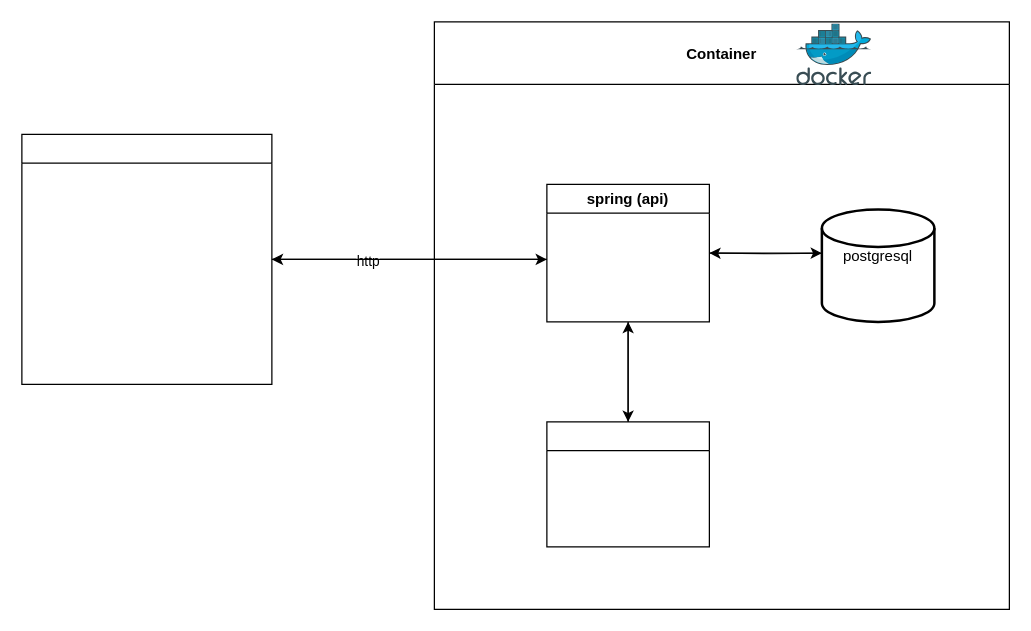
This 1031x631 diagram has some shape labels left out. Here are the shapes that lost their labels. From the top down, the box of each, then its label:
(21, 133, 272, 384): react js client
(546, 421, 709, 547): py micro service
